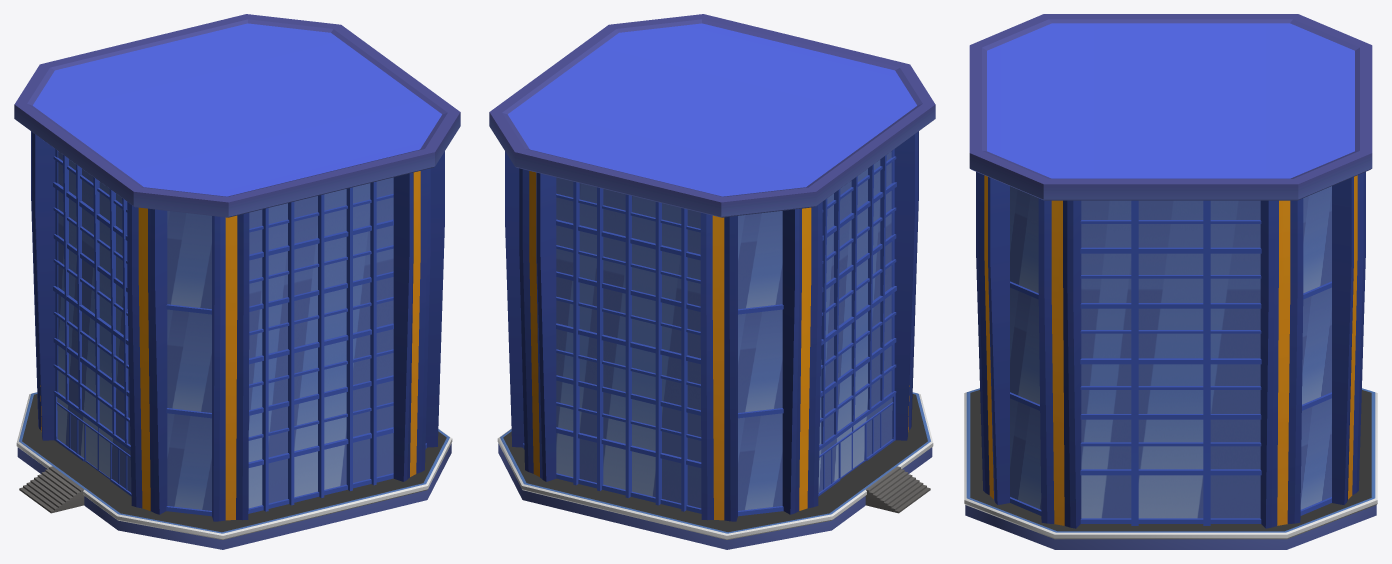
The model's file is Building_7_3_A.fbx.
3 renders of one model, left to right at view 1: azimuth 30°, elevation 25°; view 2: azimuth 150°, elevation 25°; view 3: azimuth 270°, elevation 25°, orthographic. The views are drawn at different scales.
Visible parts, largest first — view 1: Building_7_3_A; view 2: Building_7_3_A; view 3: Building_7_3_A.
Part boxes in pixels (box(x1,y1,x2,y2)): Building_7_3_A: box(14, 14, 460, 549); Building_7_3_A: box(489, 14, 935, 549); Building_7_3_A: box(964, 14, 1377, 549).
Bounding box in the file's own units: 2520 × 2267 × 2311.
